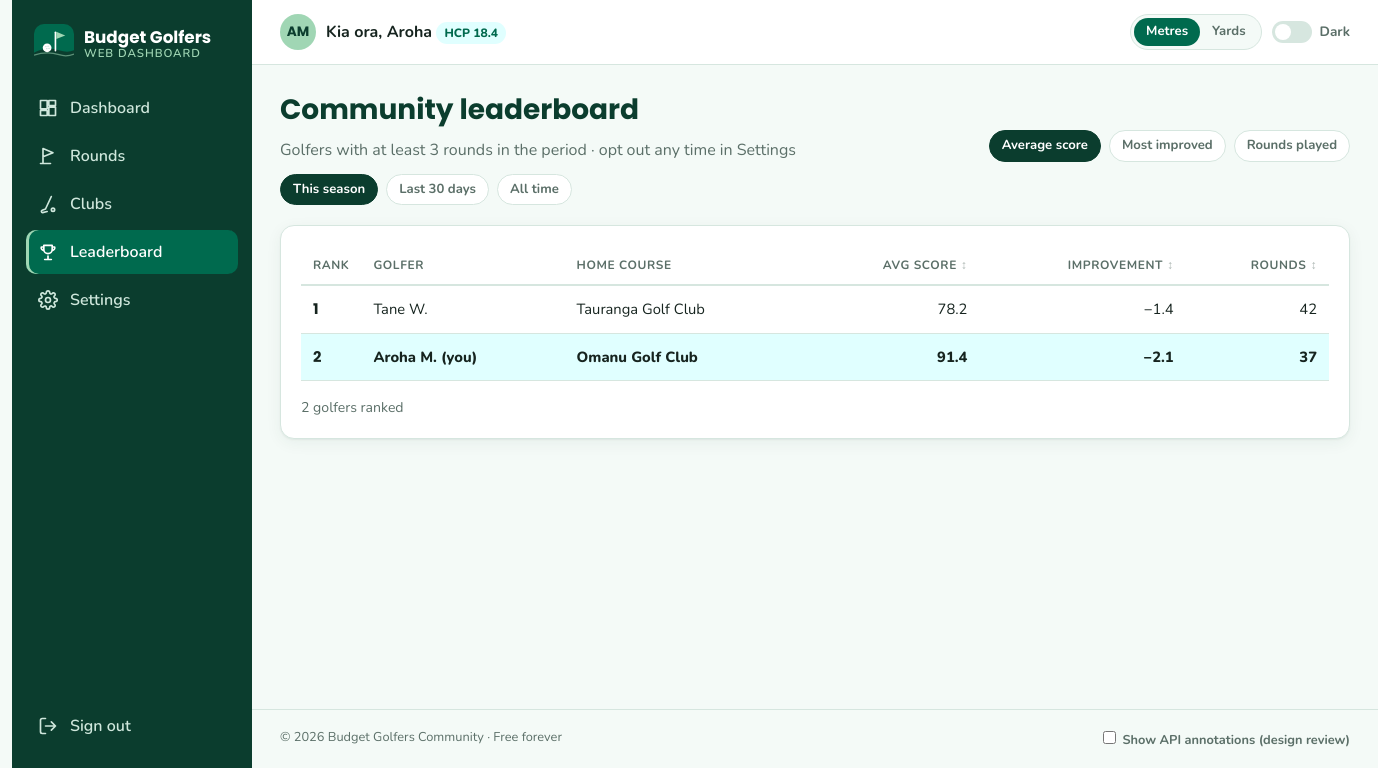
Test: clubs and leaderboard › my row is highlighted and the sort chips re-request
This screenshot has width=1378, height=768.
Click the link "Most improved" at (1167, 146), box [1109,130,1226,162]
(page scrolled)
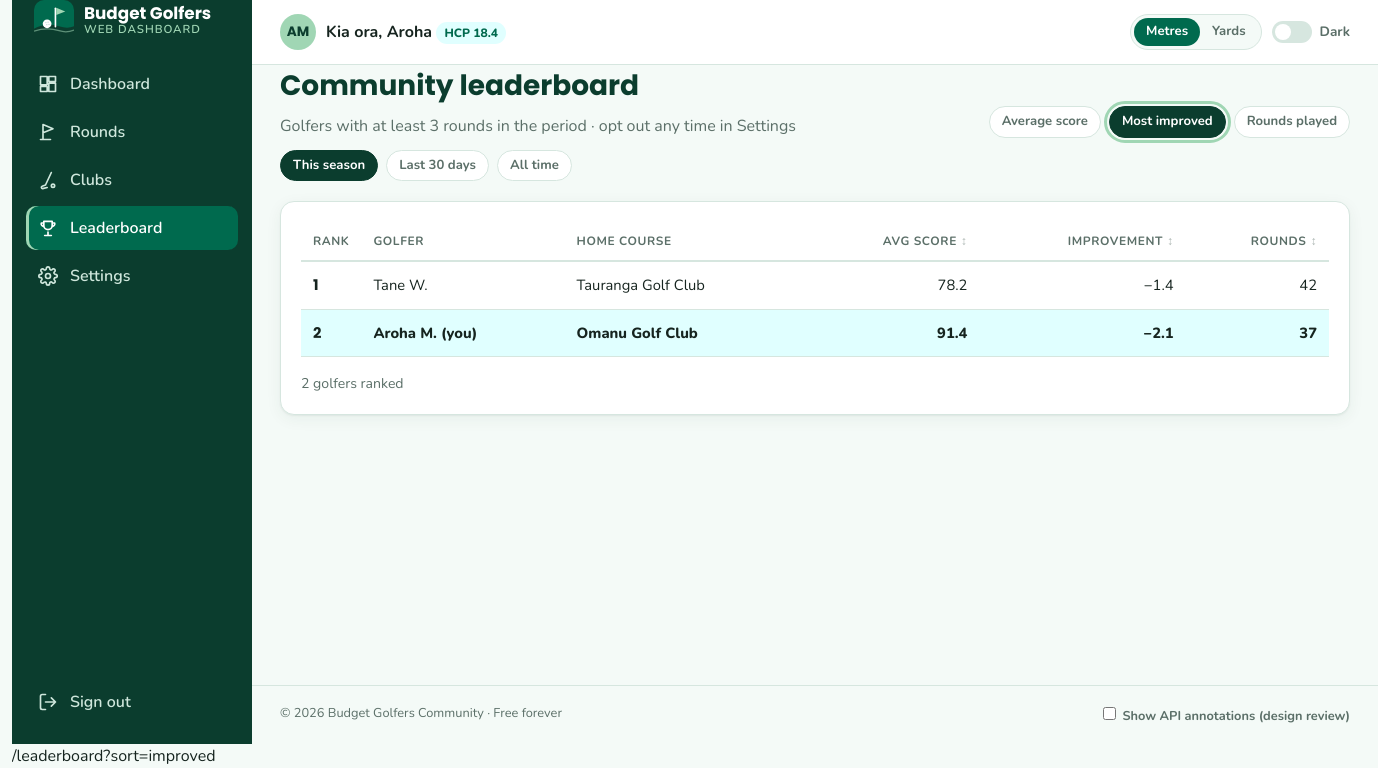
Now the text with test id "location" reads "/leaderboard?sort=improved", box [12,745,216,767]
